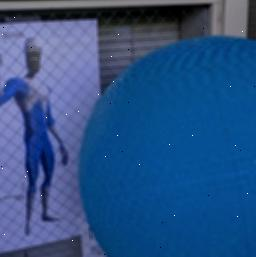algae: (73, 31, 256, 257)
